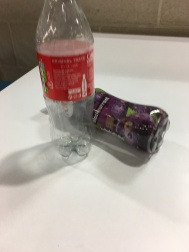bottle_purple: (98, 102, 172, 153)
bottle_red: (31, 1, 99, 164)
